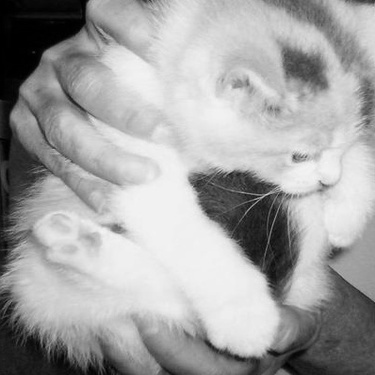cat: (13, 3, 365, 363)
